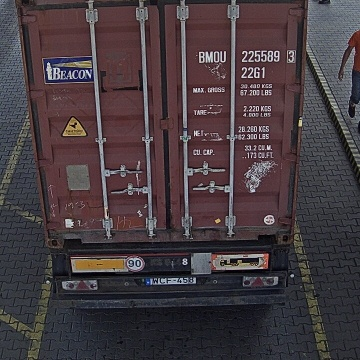serial_id: (199, 50, 296, 62)
